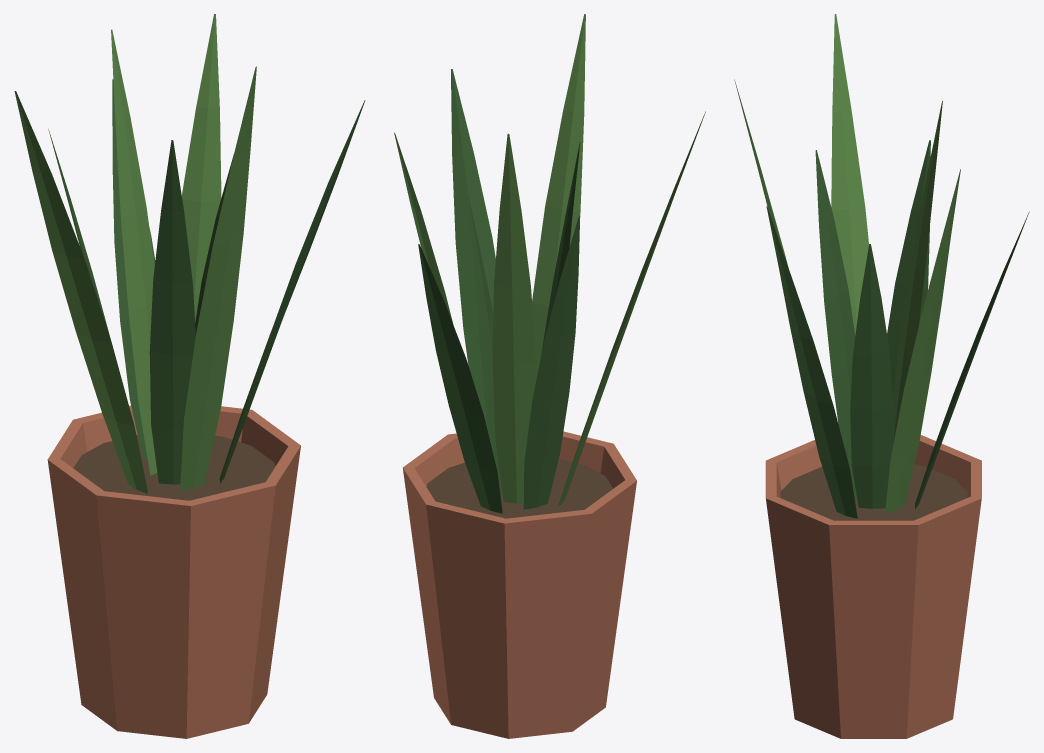
The model's file is SM_Living_PlantPot.glb.
The picture shows the model from 3 angles, left to right: view 1: azimuth 30°, elevation 25°; view 2: azimuth 150°, elevation 25°; view 3: azimuth 270°, elevation 25°; orthographic projection. The views are drawn at different scales.
Visible parts, largest first — view 1: SM_Living_PlantPot; view 2: SM_Living_PlantPot; view 3: SM_Living_PlantPot.
Part boxes in pixels (box(x1,y1,x2,y2)): SM_Living_PlantPot: box(14, 14, 365, 738); SM_Living_PlantPot: box(394, 14, 705, 738); SM_Living_PlantPot: box(734, 14, 1029, 738).
Bounding box in the file's own units: 0.4246 × 0.8901 × 0.3791.
1 material, 1 textured.
